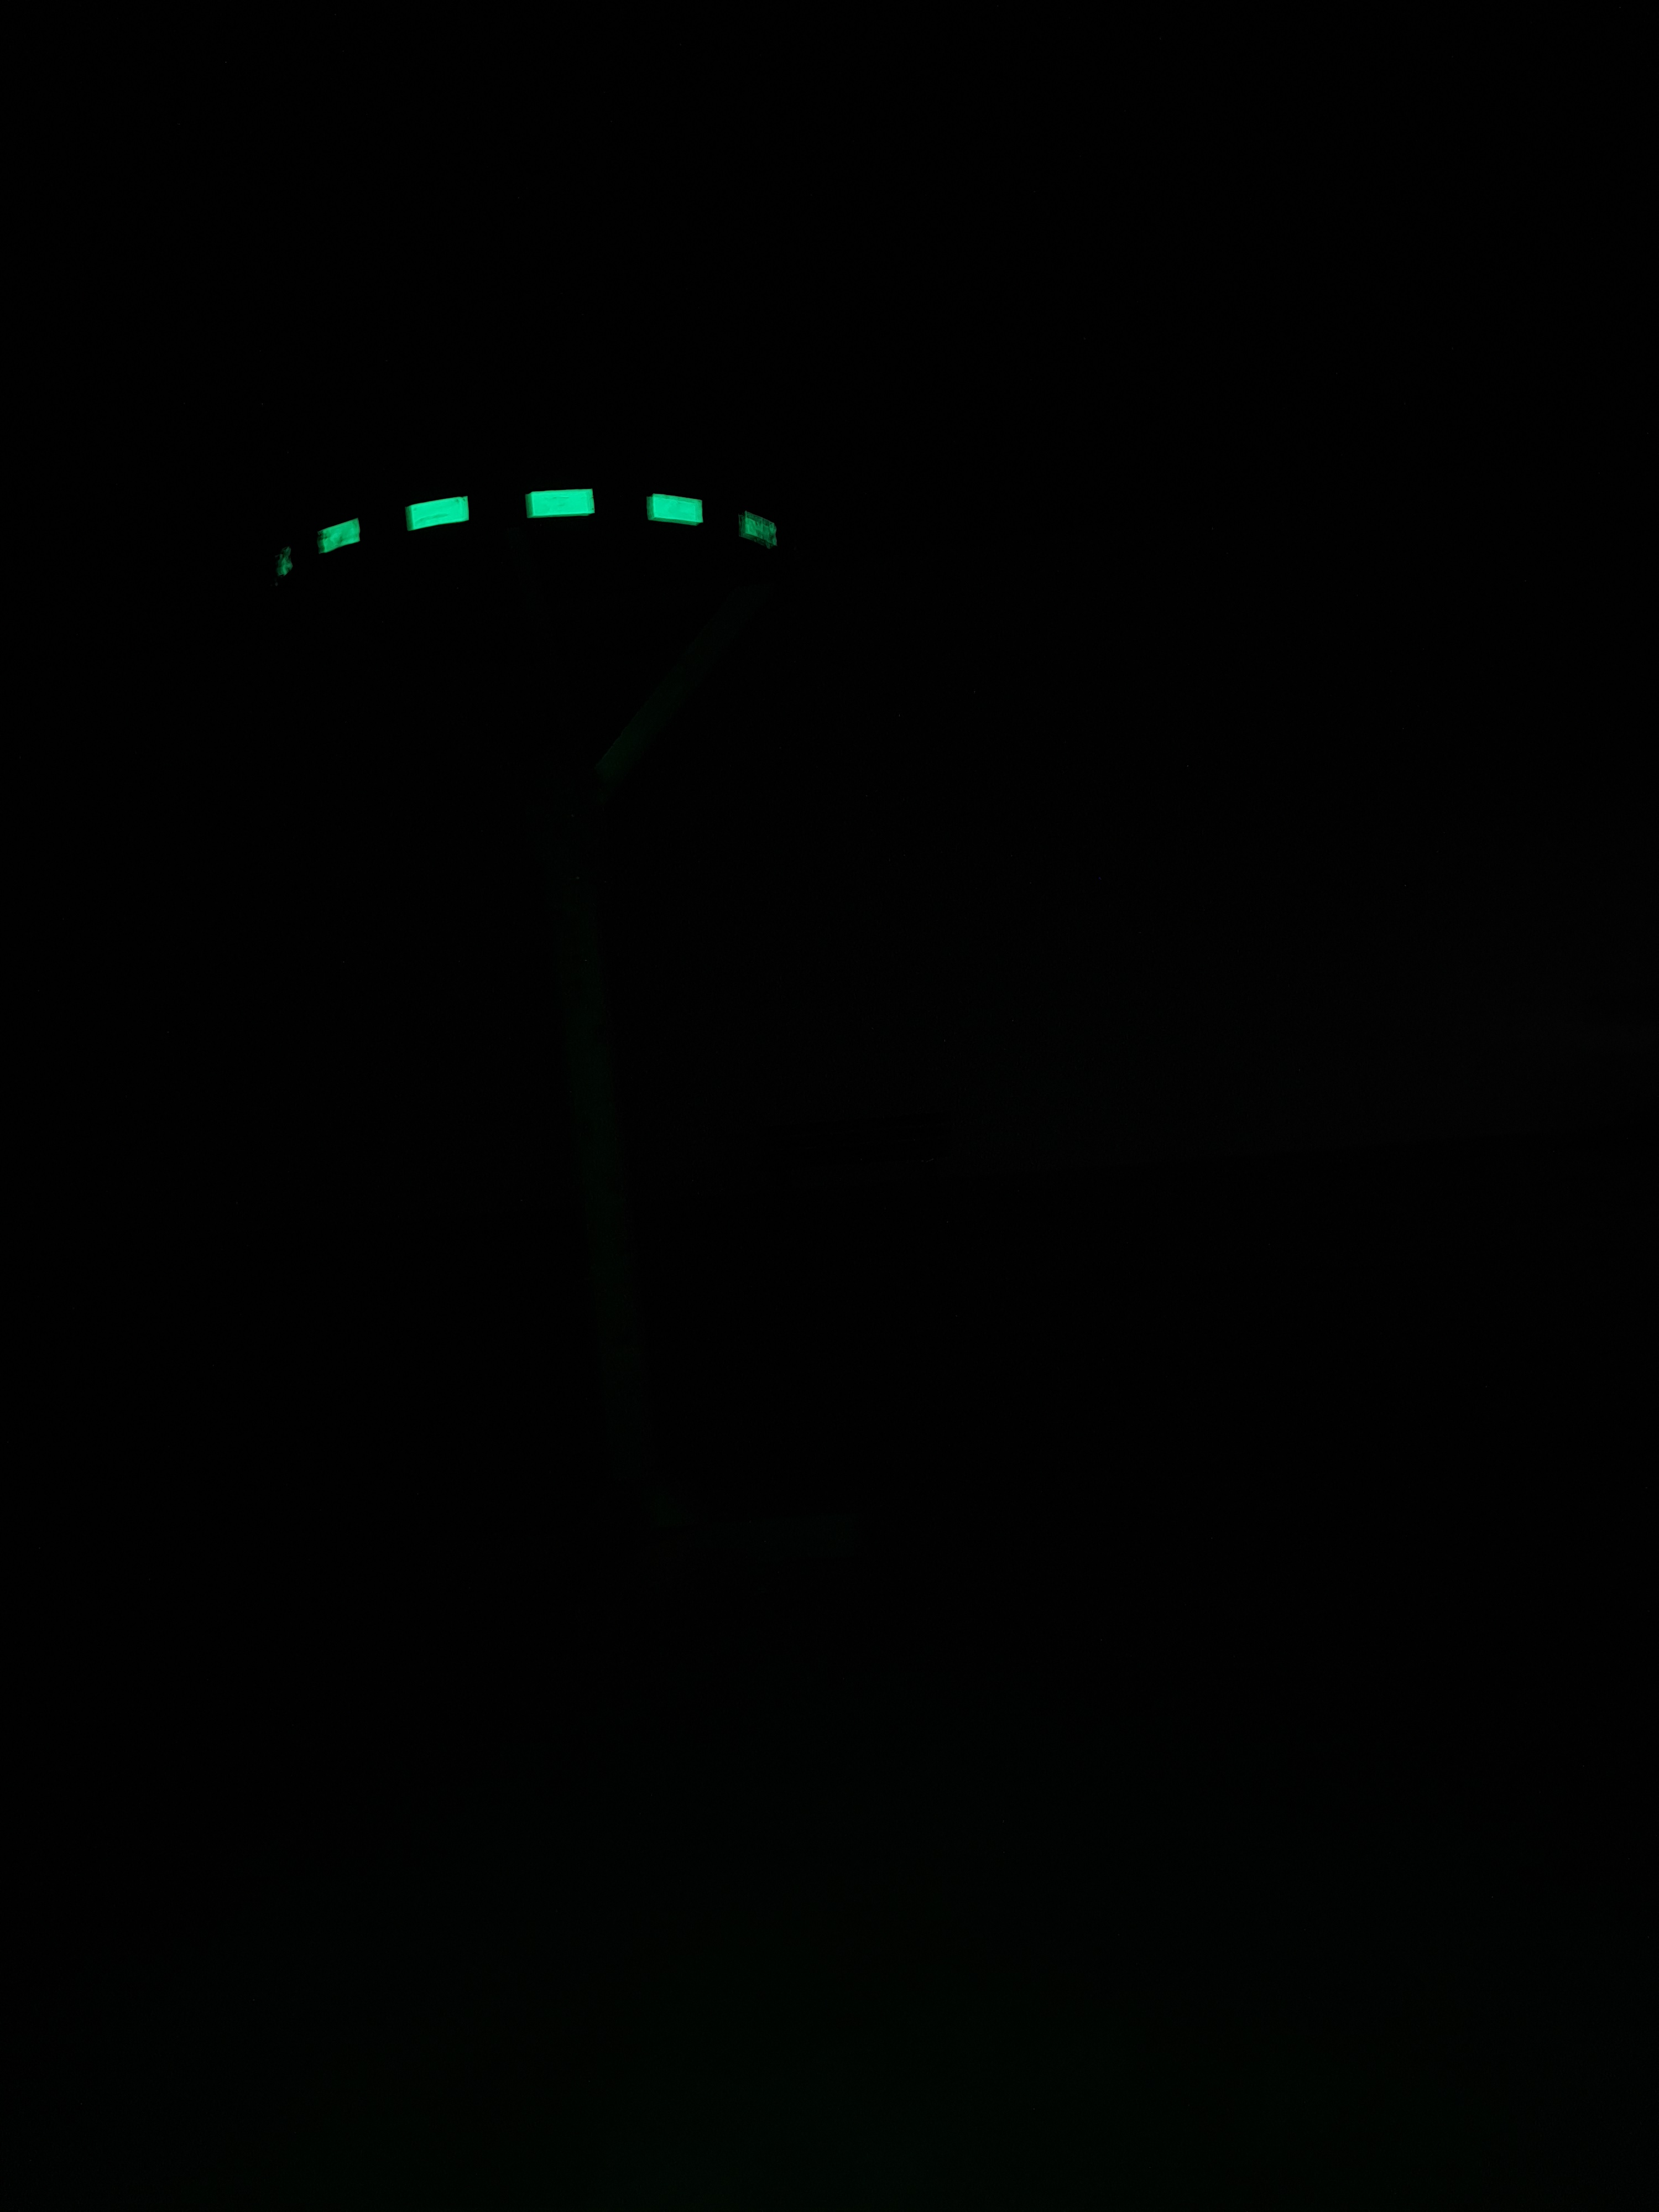hoop: (282, 482, 782, 589)
